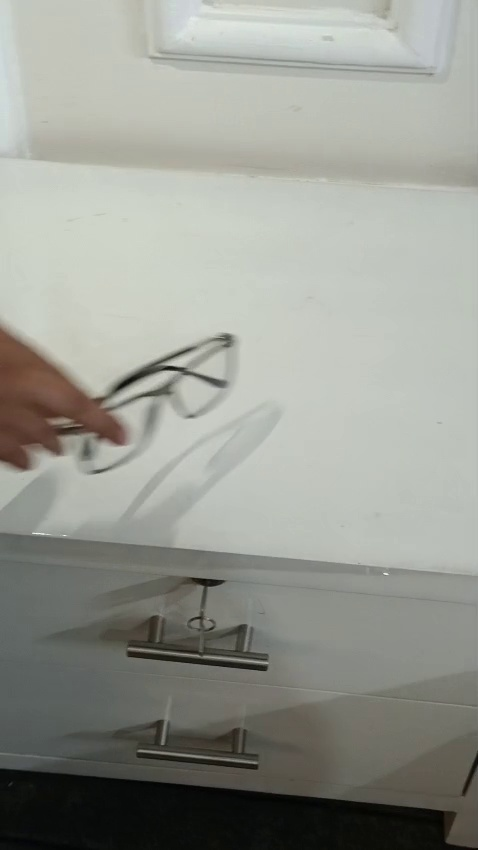glasses: (64, 338, 289, 493)
